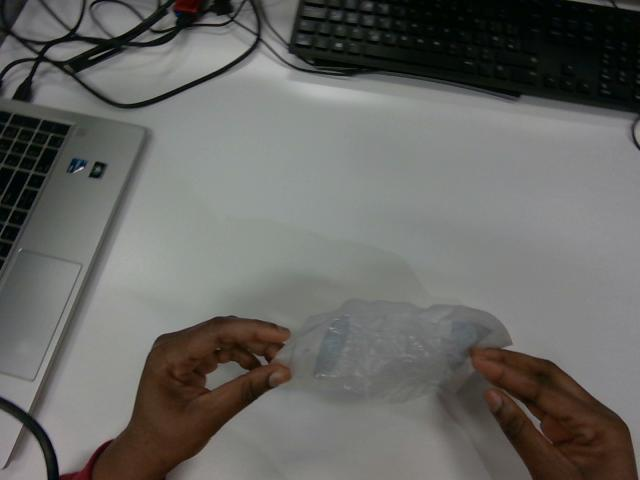gallipot: (274, 300, 510, 402)
